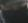with_mask: (1, 2, 28, 23)
